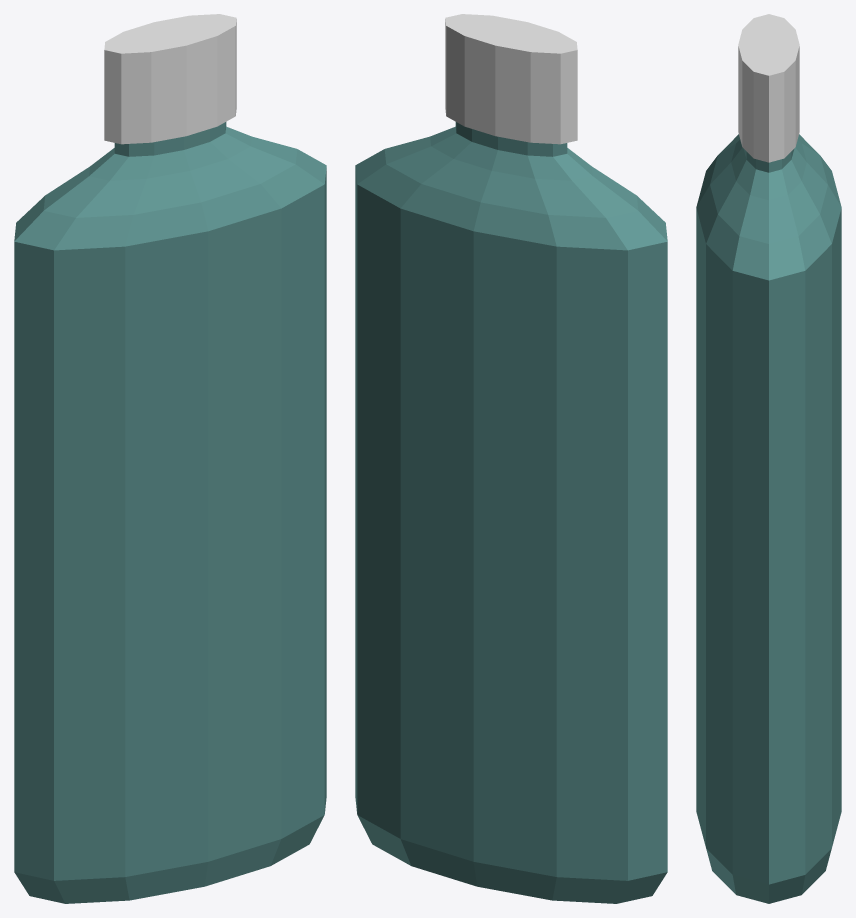
File: CREAM_03.fbx
3 views of the same model, side by side, from view 1: azimuth 30°, elevation 25°; view 2: azimuth 150°, elevation 25°; view 3: azimuth 270°, elevation 25° (orthographic). The views are drawn at different scales.
Visible parts, largest first — view 1: CREAM_03; view 2: CREAM_03; view 3: CREAM_03.
Part boxes in pixels (box(x1,y1,x2,y2)): CREAM_03: box(14, 14, 326, 903); CREAM_03: box(355, 14, 667, 903); CREAM_03: box(696, 14, 841, 903).
Size of the model in its own units: 3.96 by 10.03 by 1.67.
